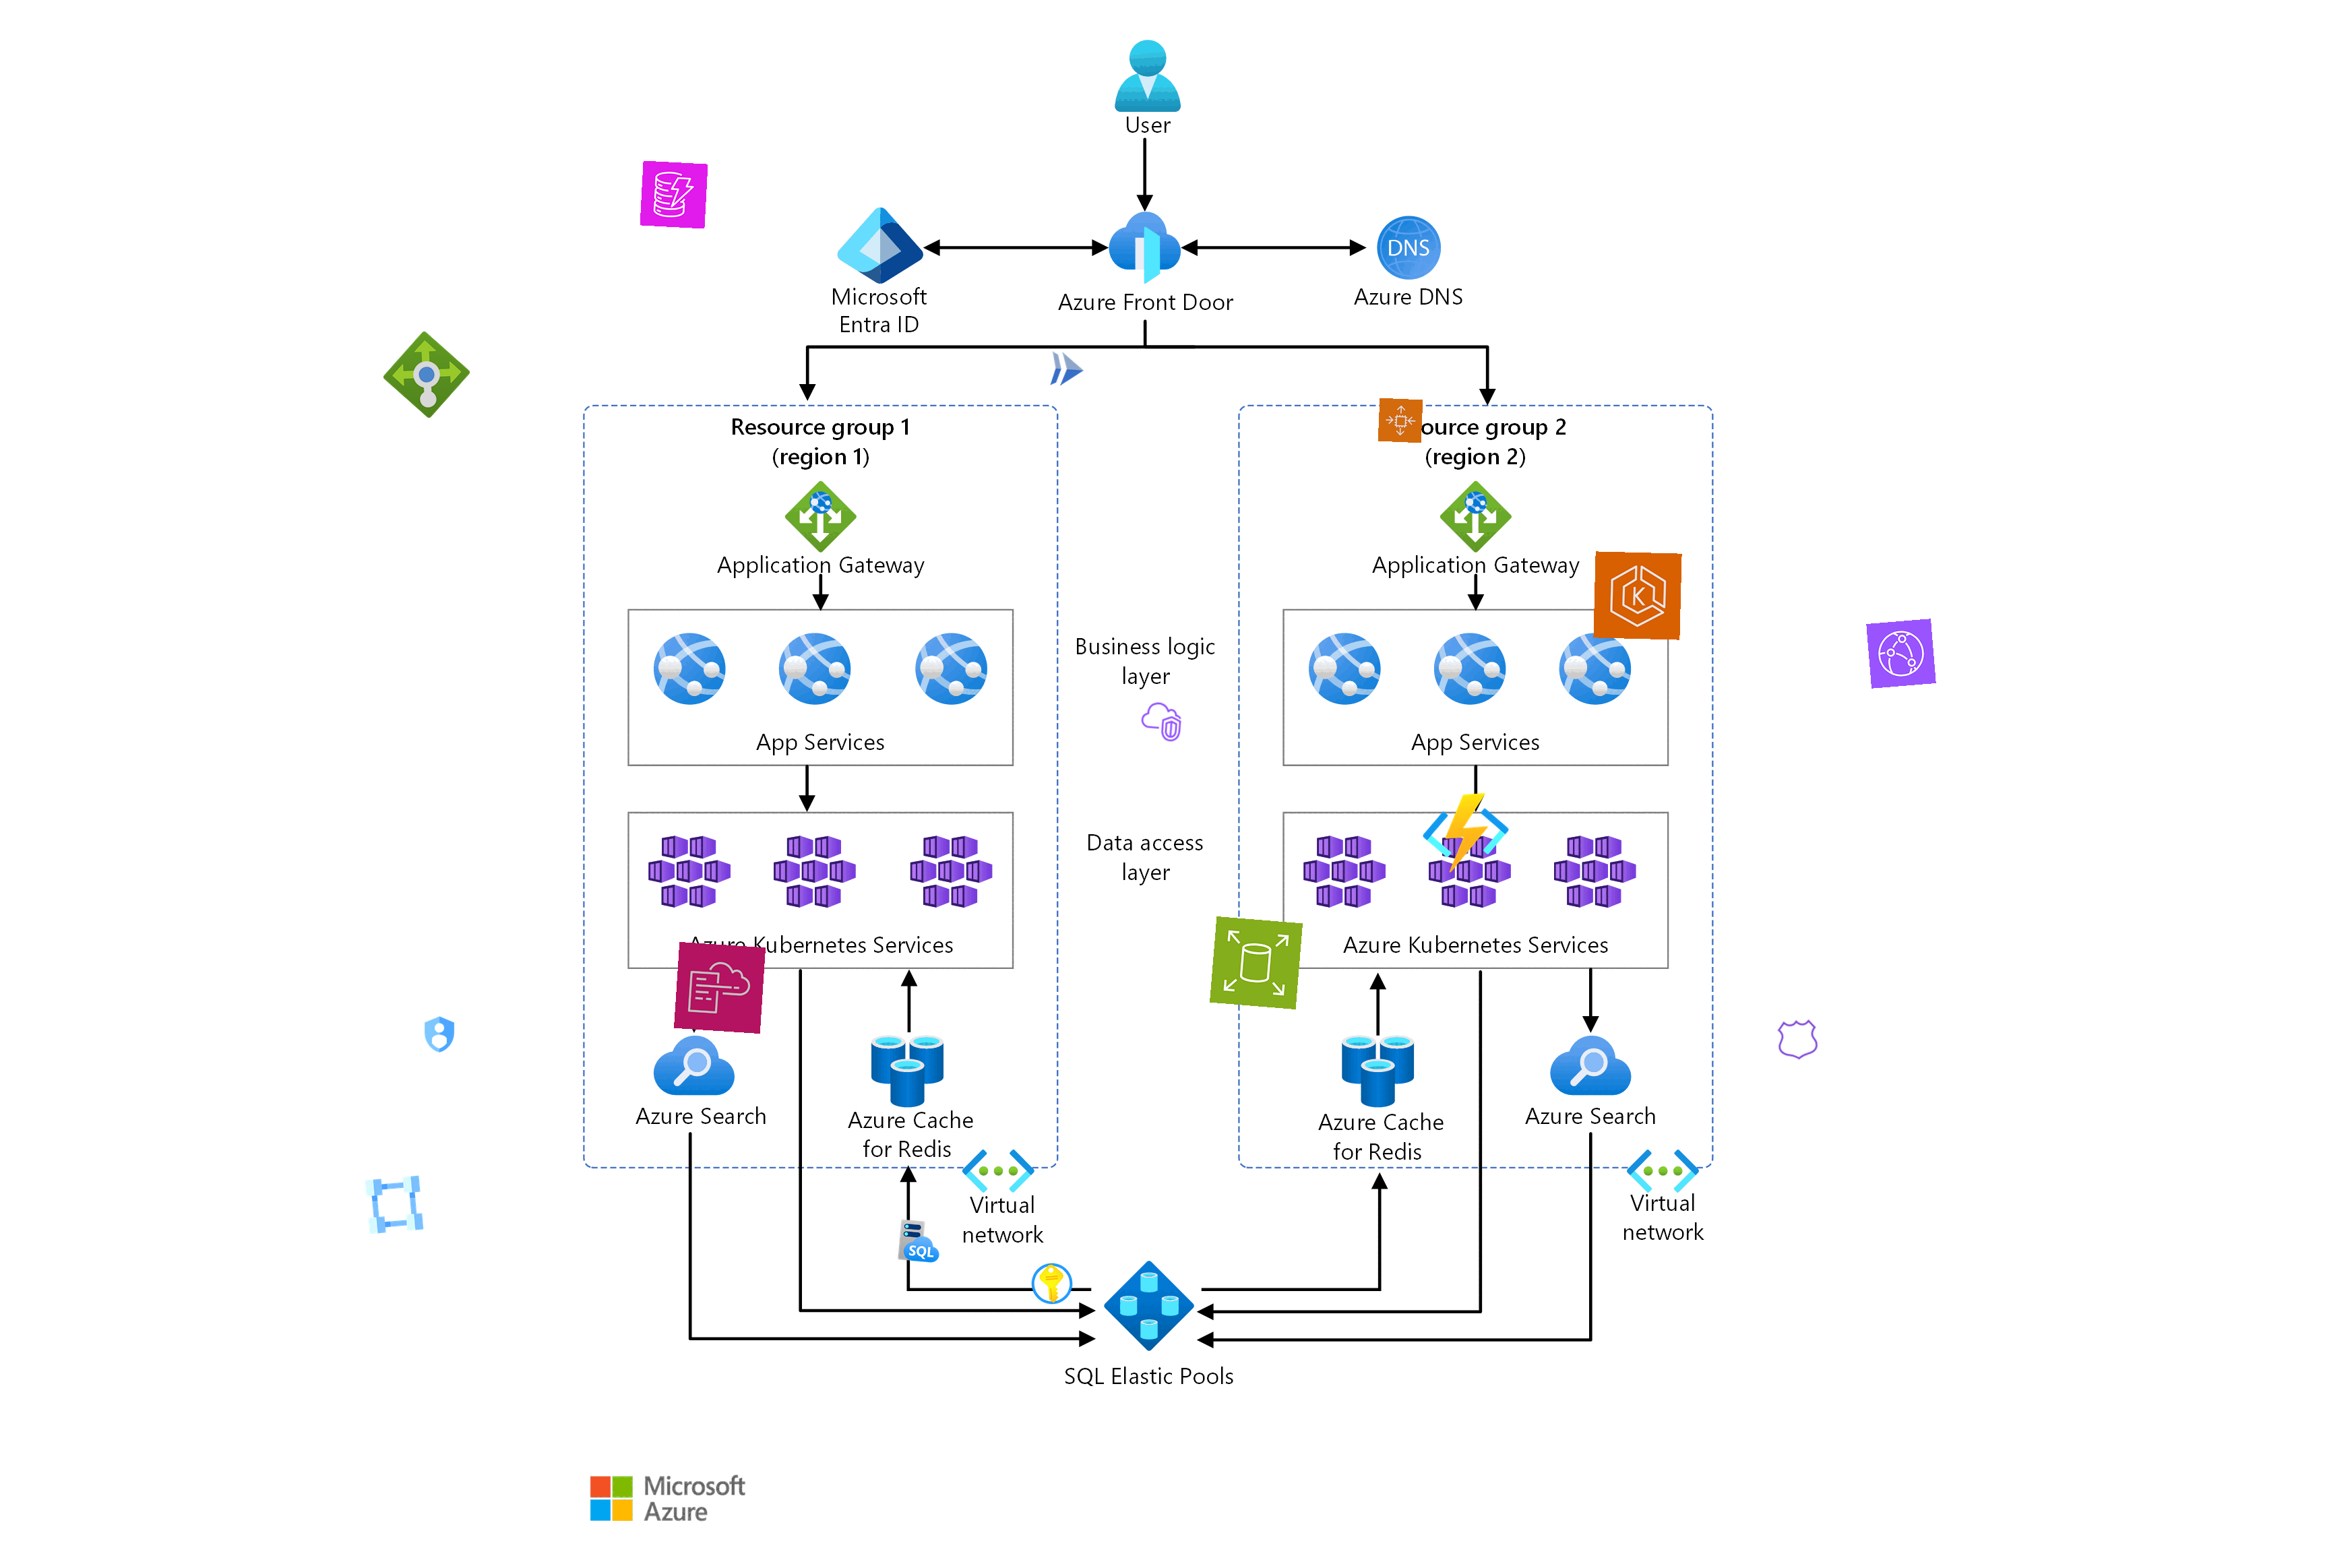aws_amazon_cloudfront: (1865, 618, 1935, 689)
aws_amazon_dynamodb: (639, 161, 709, 229)
aws_amazon_ec2_auto_scaling: (1377, 397, 1423, 443)
aws_amazon_elastic_block_store: (1209, 915, 1304, 1010)
aws_amazon_elastic_kubernetes_service: (1592, 551, 1682, 640)
aws_cloudformation: (674, 942, 766, 1034)
aws_route_53_hosted_zone: (1774, 1017, 1822, 1064)
aws_vpc_virtual_private_cloud_vpc: (1137, 698, 1185, 746)
azure_function_apps: (1419, 786, 1512, 879)
azure_key_vaults: (1029, 1260, 1076, 1307)
azure_load_balancers: (381, 329, 472, 420)
azure_sql_managed_instance: (896, 1218, 943, 1265)
gcp_cloud_run: (1043, 346, 1090, 392)
gcp_identity_and_access_management: (416, 1012, 462, 1057)
gcp_virtual_private_cloud: (359, 1169, 429, 1239)
